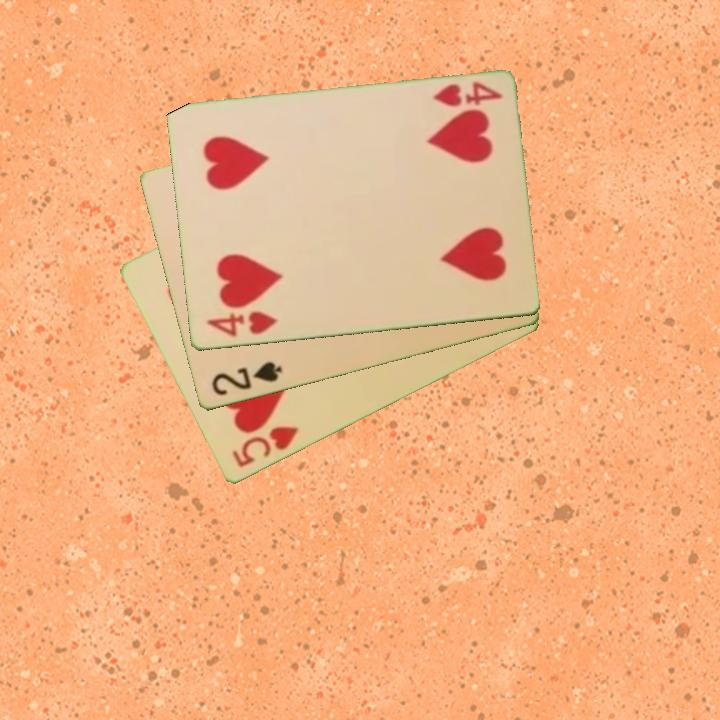2s: (207, 358, 285, 399)
4h: (203, 308, 280, 340), (429, 79, 505, 110)
5h: (228, 423, 301, 471)
